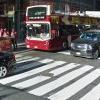Bus: (22, 2, 70, 54)
